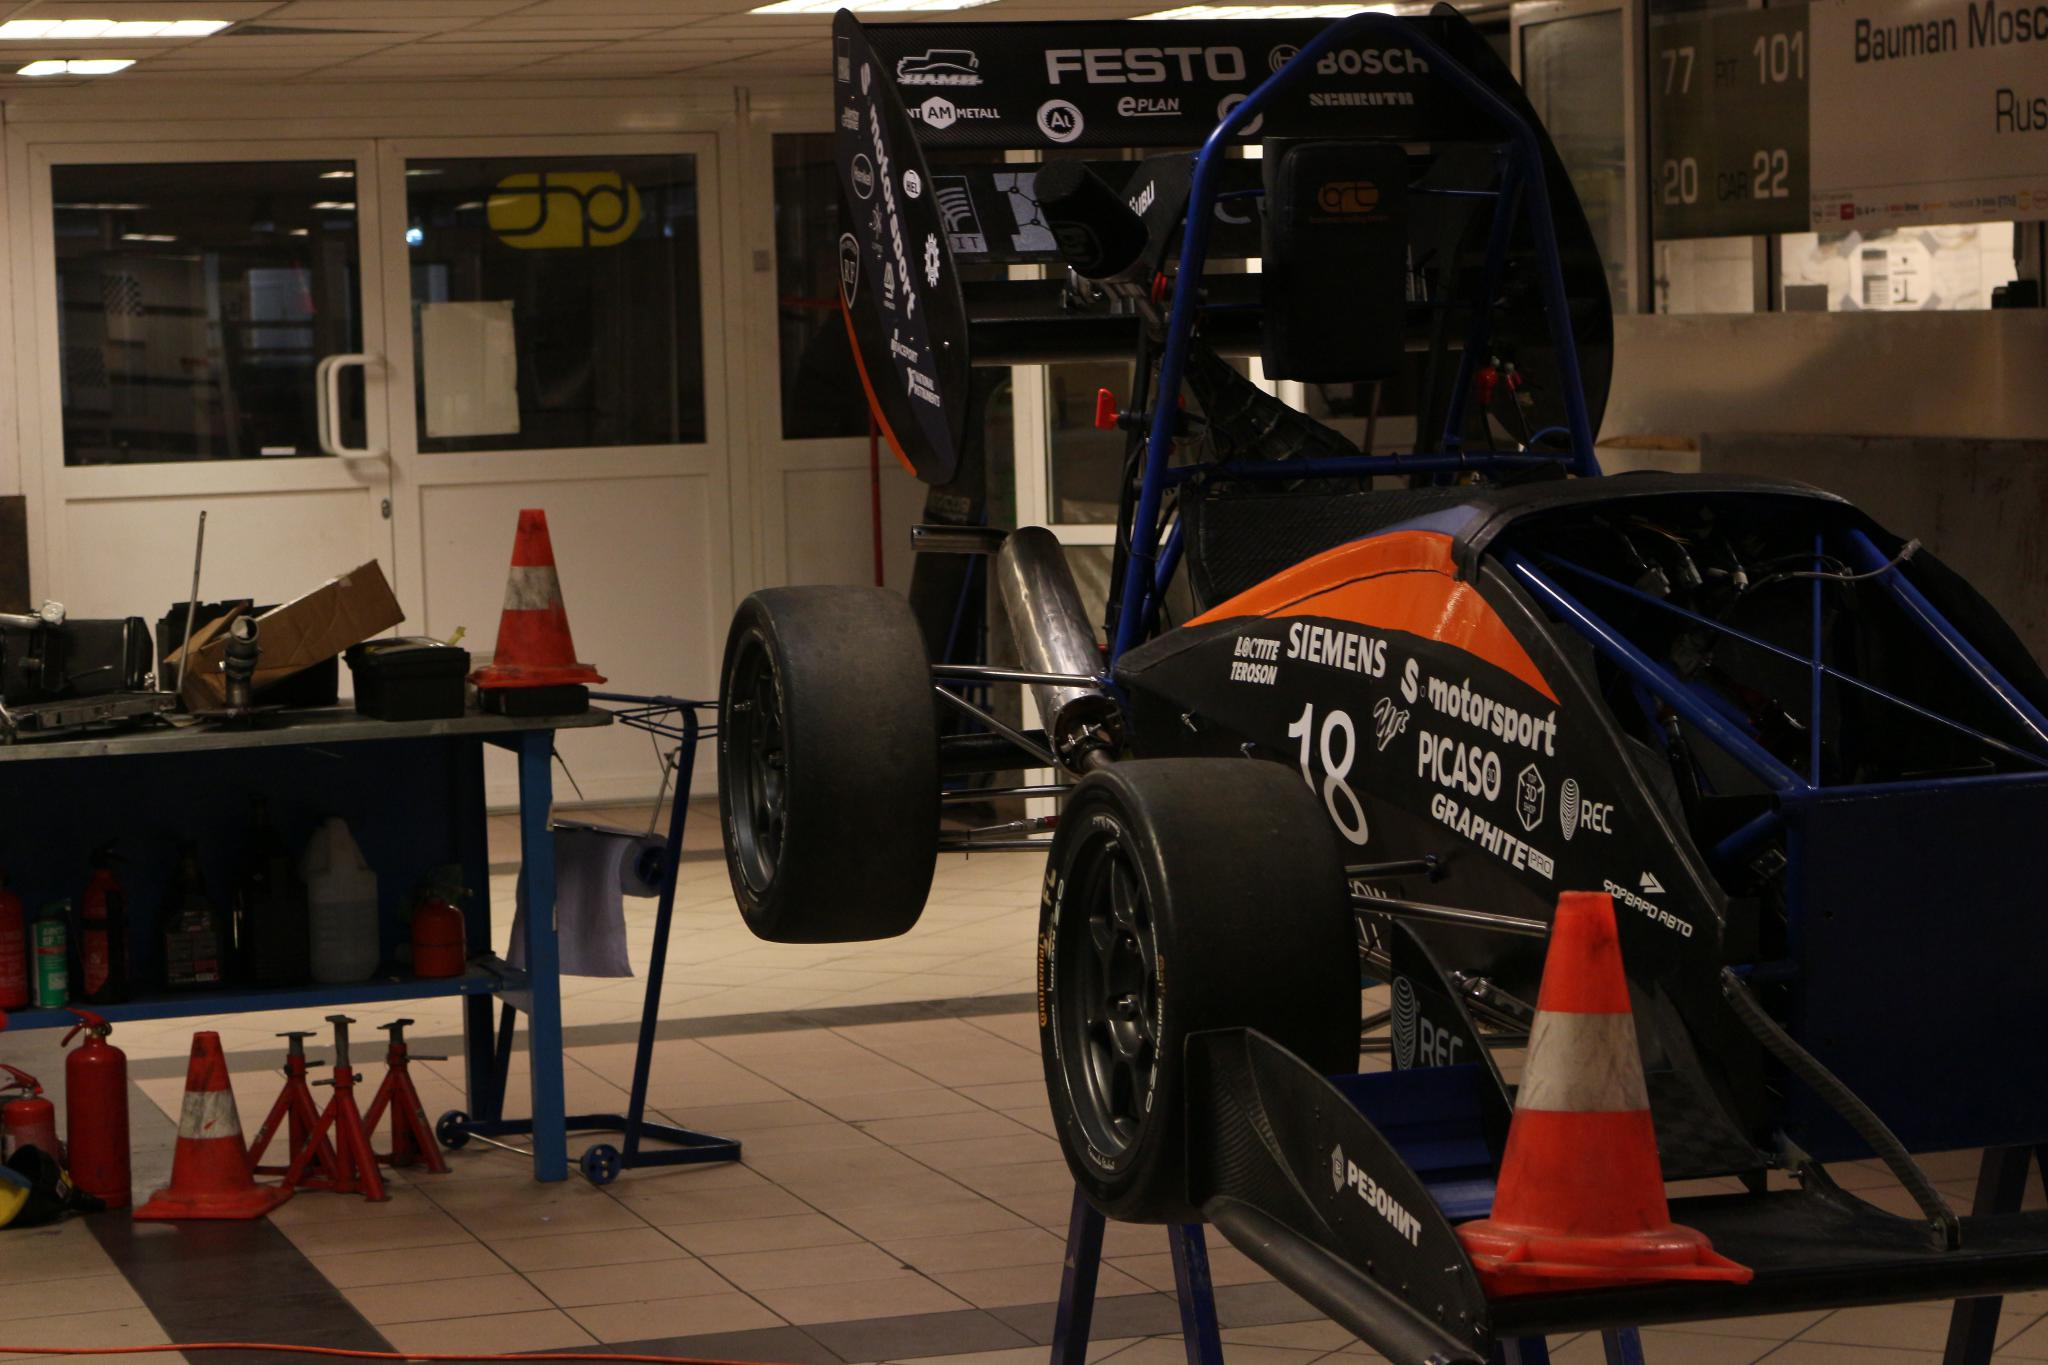Orange_Cone: (1436, 879, 1757, 1289), (120, 1028, 295, 1223), (460, 498, 618, 689)
